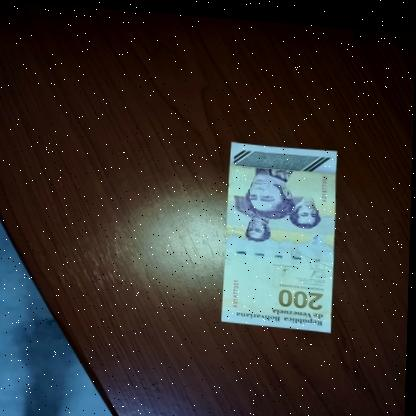two_hundred-front-vef: (222, 137, 339, 328)
